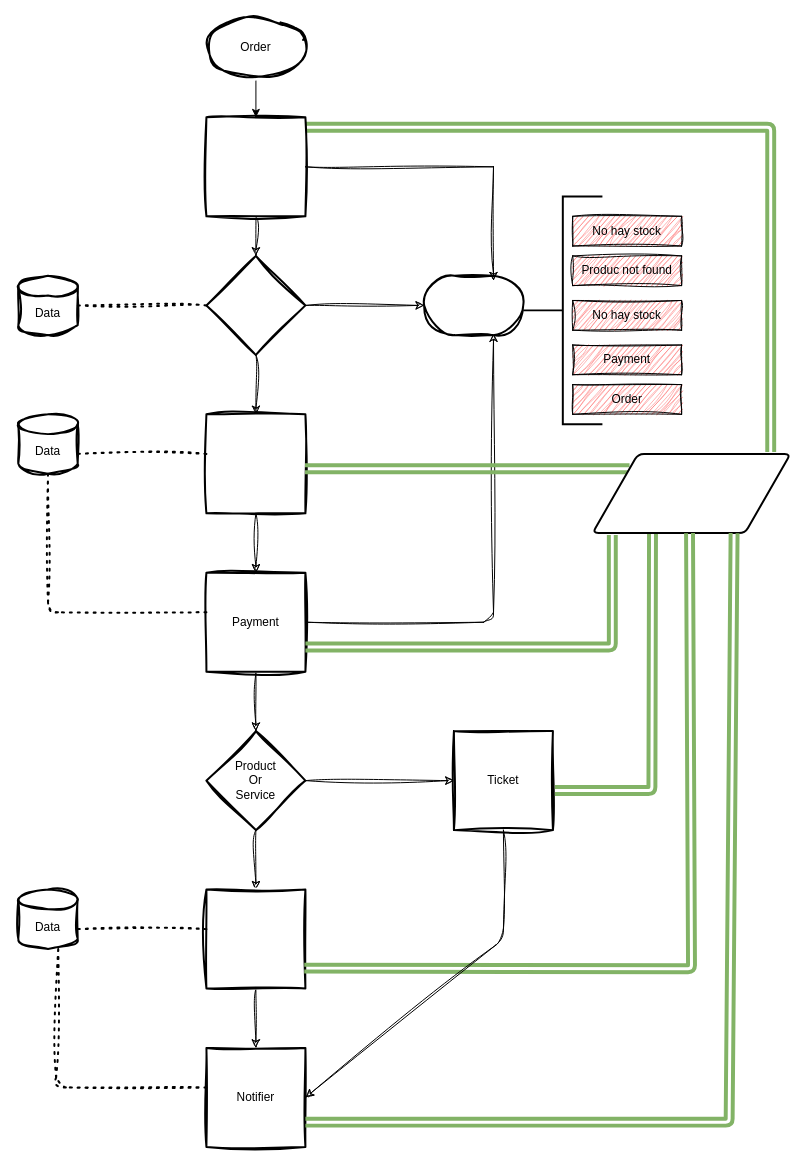
This 808x1164 diagram has some shape labels left out. The centre of each missing label's shape, as x and y in pixels:
Crear order: the point at 255,463
Error: the point at 473,305
shipping: the point at 255,938
Stock: the point at 255,304
Validate data: the point at 255,166
Workflow Status: the point at 691,493
